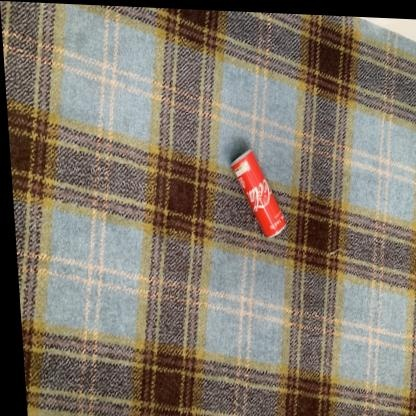trash: (231, 149, 285, 236)
